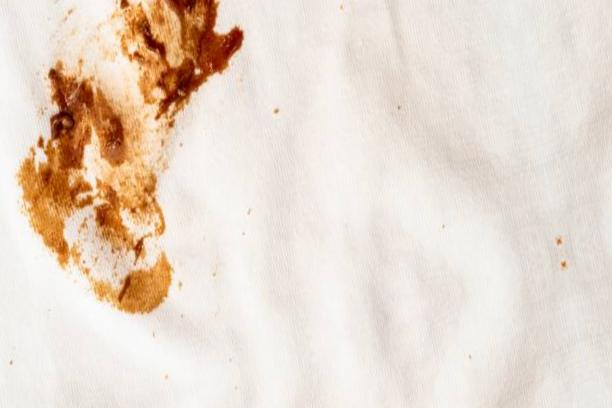stain: (17, 1, 246, 332), (388, 96, 415, 121), (264, 95, 287, 123), (541, 228, 571, 246), (553, 256, 576, 277)
